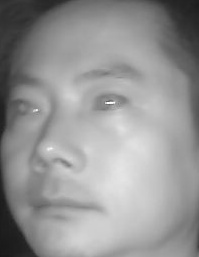eye: (88, 91, 130, 113), (9, 98, 43, 119)
mouth: (26, 187, 98, 224)
